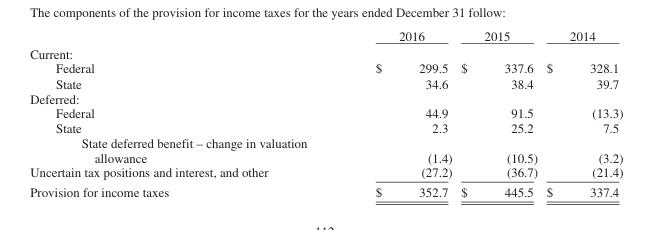table: (29, 28, 622, 199)
table column: (29, 28, 340, 199), (340, 28, 455, 199), (455, 28, 541, 199), (541, 28, 622, 199)
table column header: (29, 28, 622, 44)
table projected row header: (29, 44, 622, 60), (29, 90, 622, 105)
table row: (29, 135, 622, 164), (29, 181, 622, 199), (29, 164, 622, 181), (29, 28, 622, 44), (29, 44, 622, 60), (29, 60, 622, 75), (29, 75, 622, 90), (29, 90, 622, 105), (29, 105, 622, 120), (29, 120, 622, 135)
